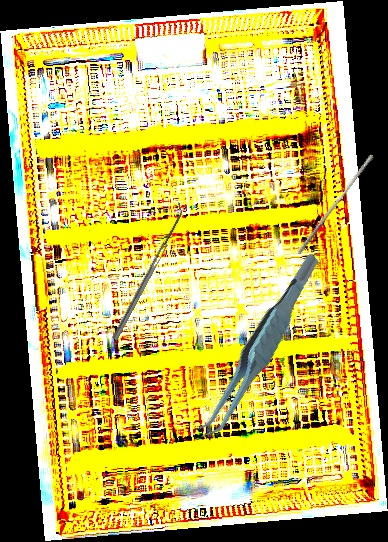Pusher: (296, 151, 375, 258)
Spatula Surgical: (107, 202, 188, 341)
Tissue Forceps: (164, 251, 354, 445)
